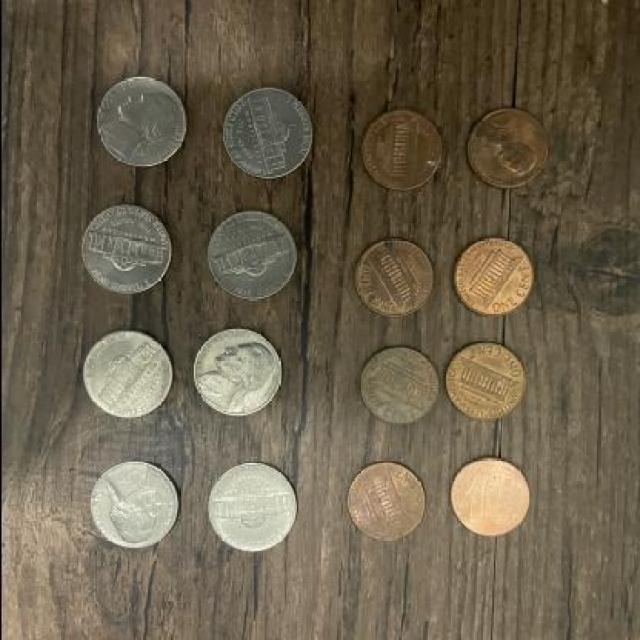Nickel: (83, 458, 182, 552), (89, 77, 191, 168), (200, 210, 298, 302), (208, 460, 300, 556), (81, 202, 174, 296), (222, 84, 312, 180), (190, 331, 284, 420), (81, 331, 174, 420)
Penny: (356, 106, 444, 194), (352, 344, 442, 428), (442, 338, 528, 424), (448, 235, 537, 318), (443, 457, 532, 537), (352, 237, 436, 320), (344, 460, 430, 540), (466, 109, 549, 191)
